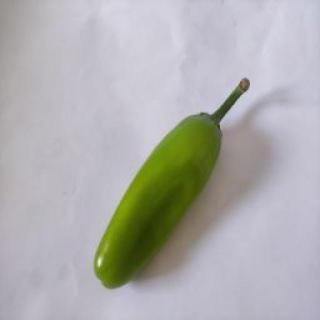Cabai Hijau: (88, 73, 255, 293)
